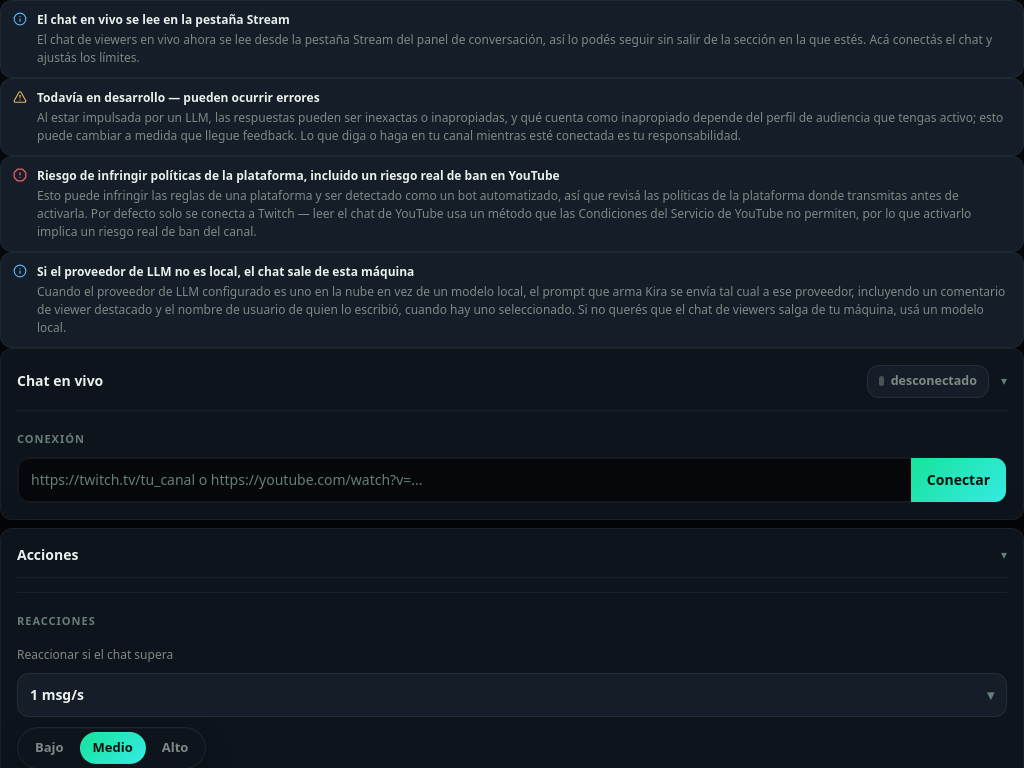
Test case: StreamPanel › disconnects back to desconectado by firing POST /api/stream/chat-live/disconnect
Expected: the text "desconectado" is shown, [867,365,989,398]
In the field named "URL del directo": [464, 480] box [18,458,911,502], type "https://twitch.tv/kira"
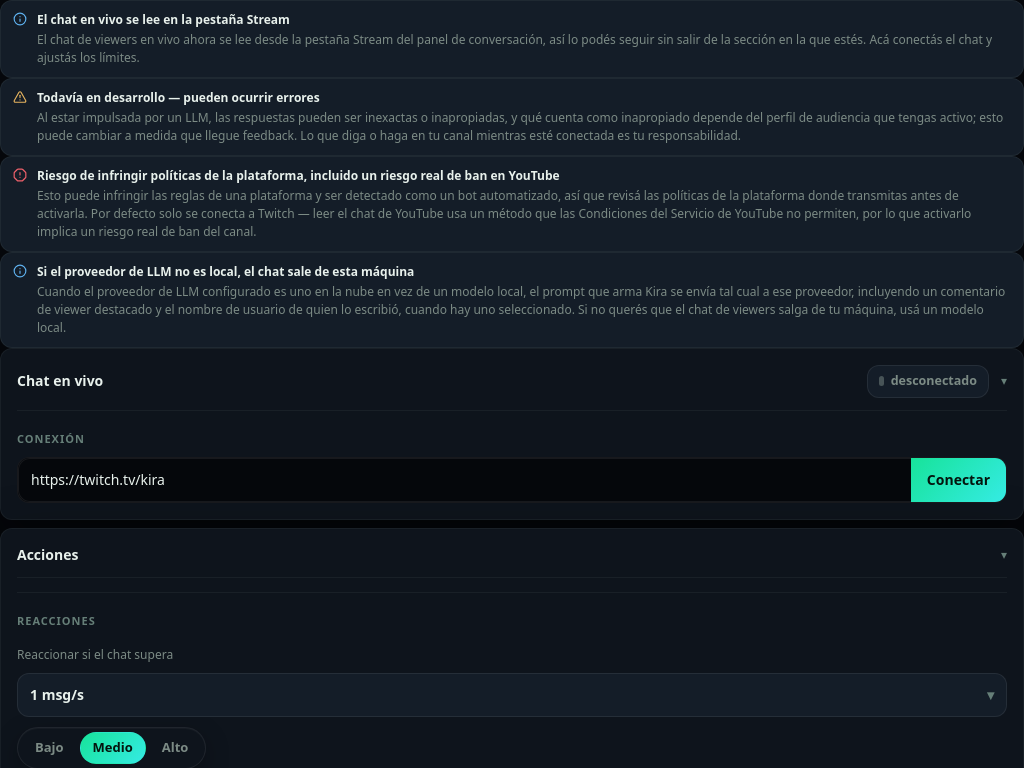
Click the button "Conectar": [958, 480] box [911,458,1006,502]
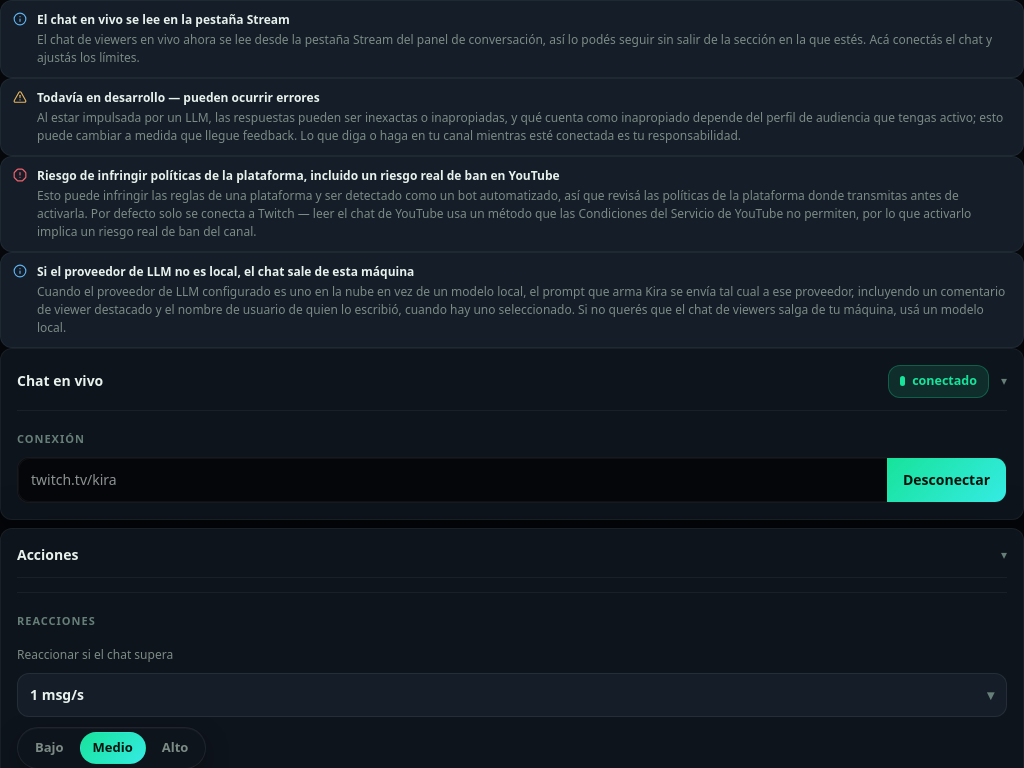
Expected: the text "conectado" is shown, [888,365,989,398]
Click the button "Desconectar": [946, 480] box [887,458,1006,502]
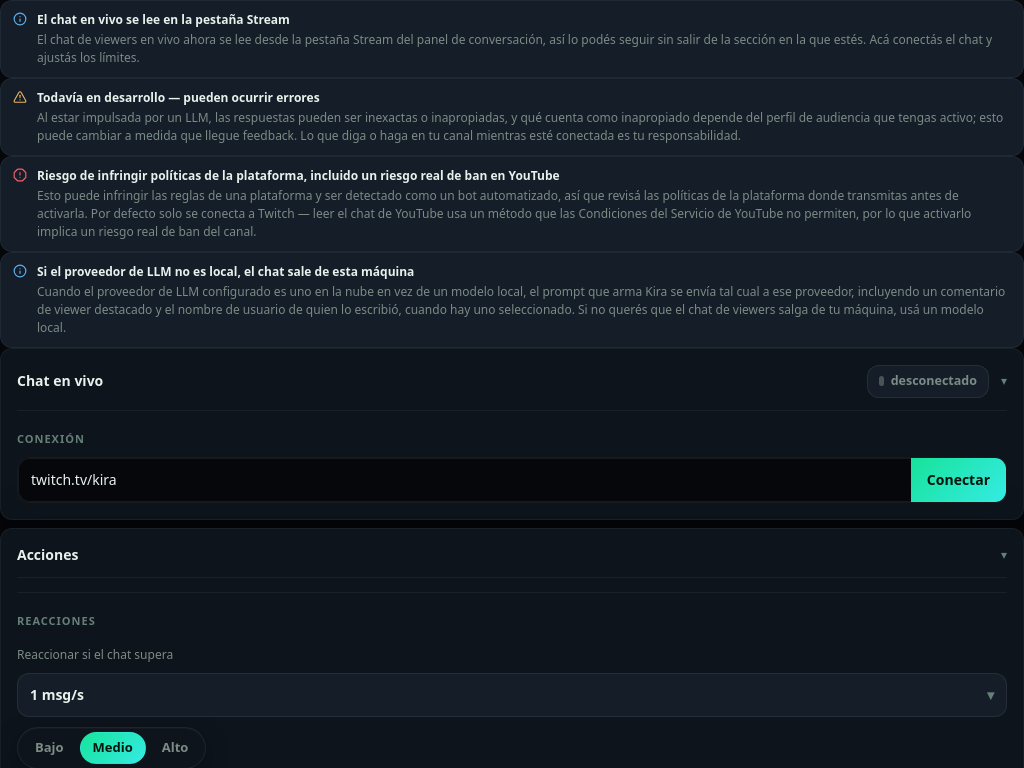
Result: the text "desconectado" is shown at [867,365,989,398]
